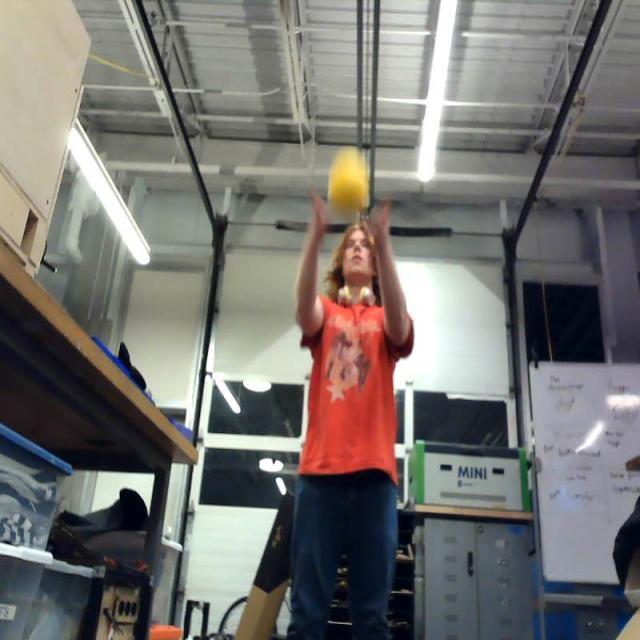Fuel: (328, 158, 366, 214)
